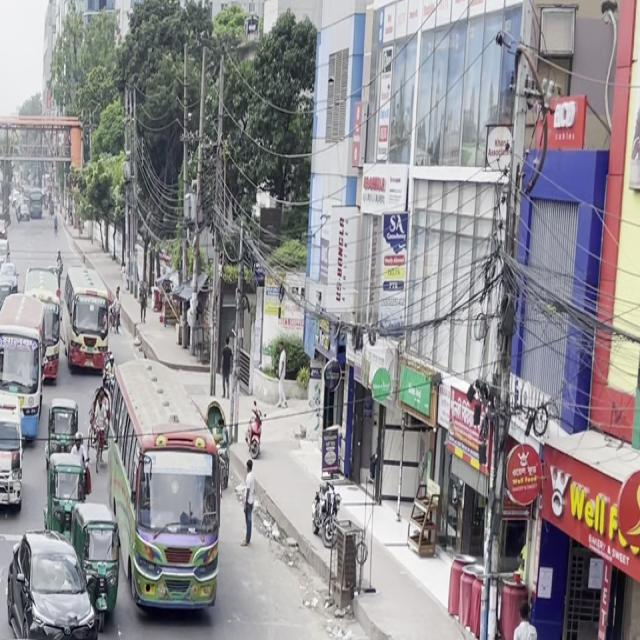bus: (125, 377, 227, 632), (65, 263, 110, 379), (0, 296, 49, 399)
car: (0, 524, 103, 640), (308, 622, 474, 640), (0, 405, 26, 519), (37, 336, 62, 391), (0, 629, 99, 640)
motorbike: (77, 427, 97, 493)
rickshaw: (66, 497, 125, 621), (43, 447, 90, 534), (46, 391, 83, 461)
